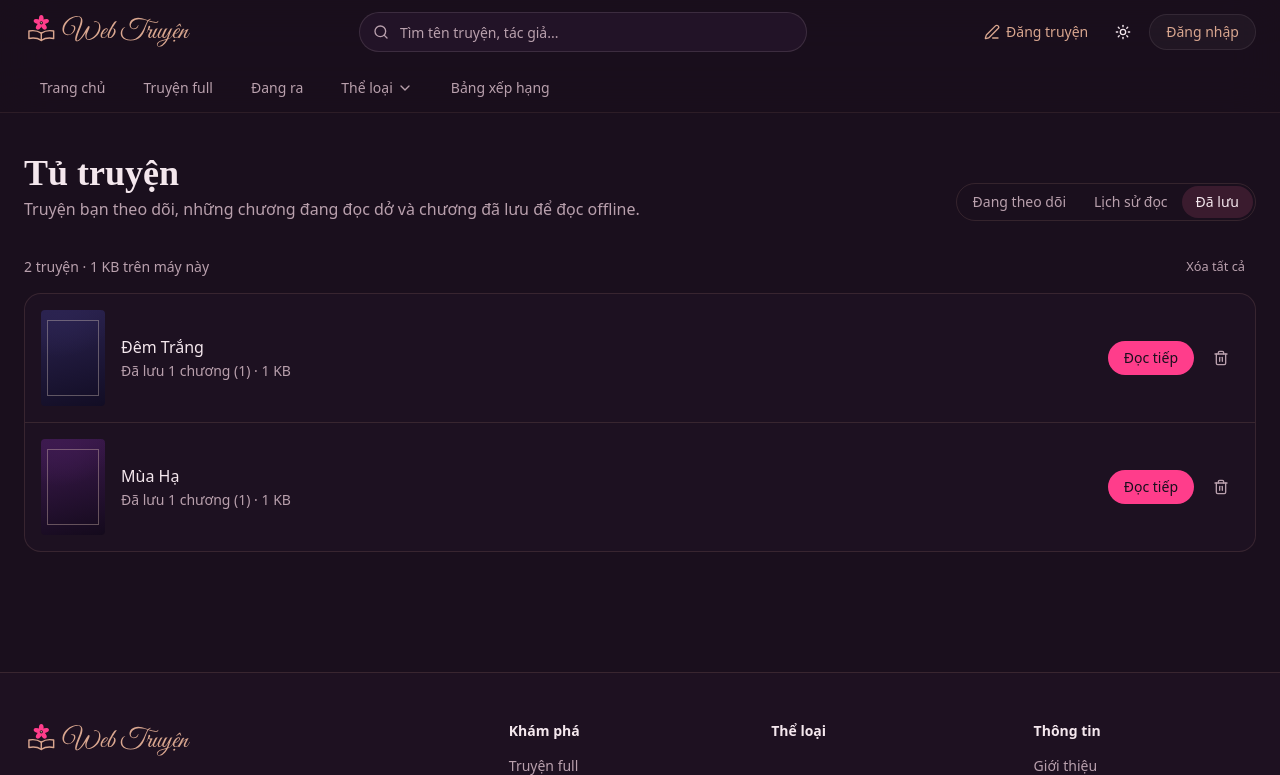
xóa một truyện; "Xóa tất cả" hỏi lại rồi xóa hết
Click the button named "Xóa Mùa Hạ khỏi máy" at point(1221, 487), box [1203,469,1239,505]
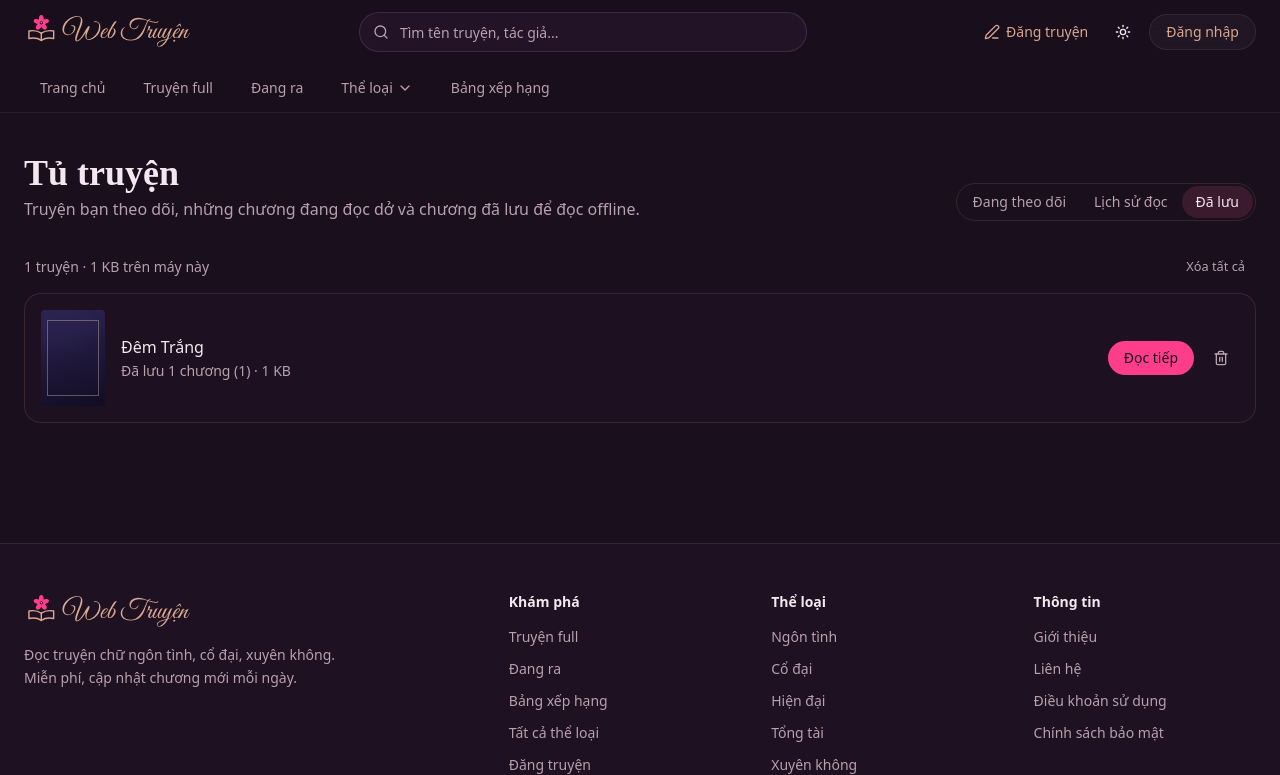
Now the link "Mùa Hạ" is gone
Click the button "Xóa tất cả" at point(1216, 267), box [1175,253,1256,281]
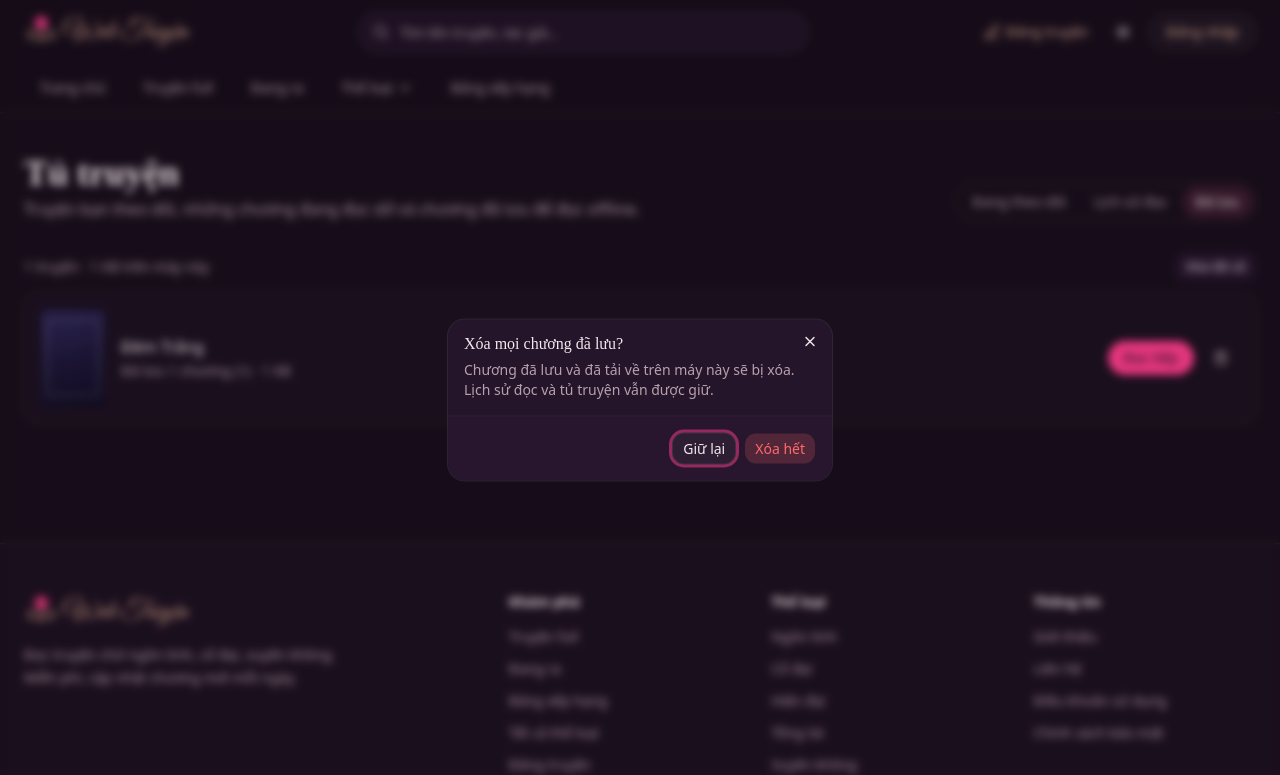
Click the button "Xóa hết" at point(780, 448), box [744,432,816,464]
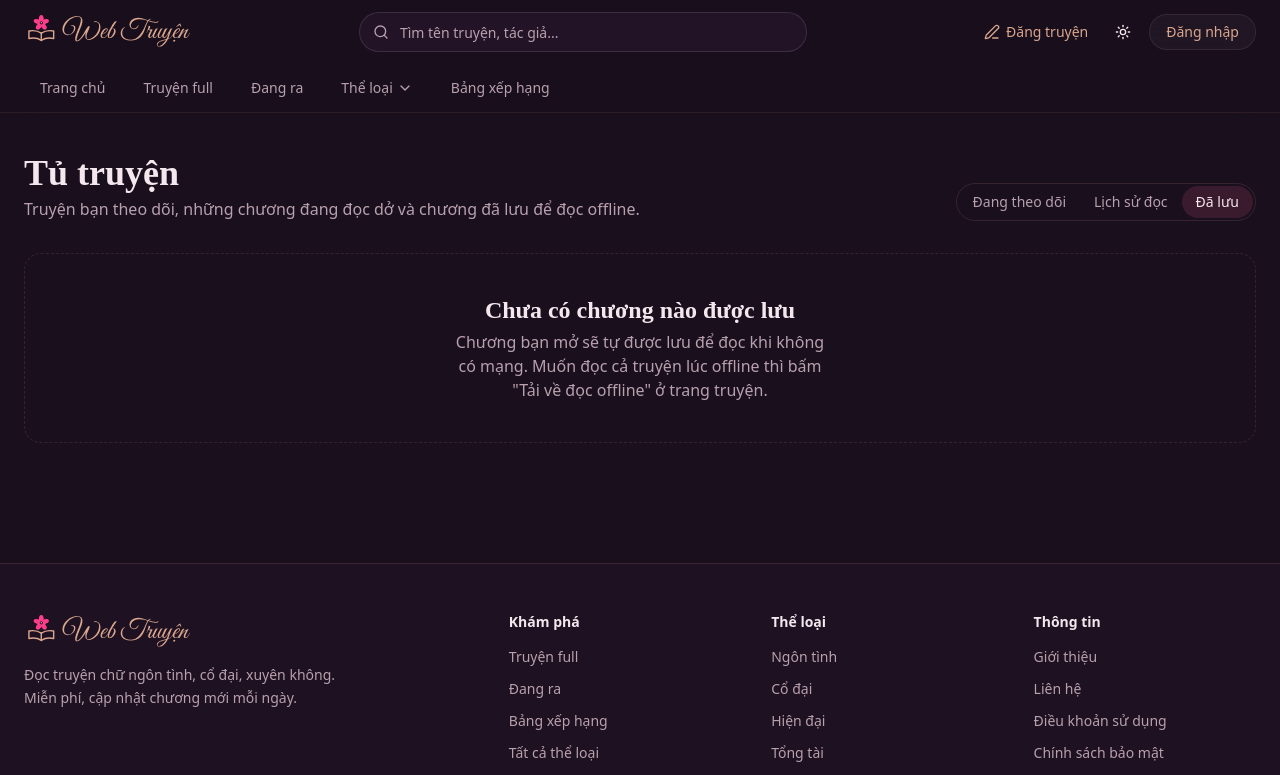
Now the text "Chưa có chương nào được lưu" is shown, box [485,297,795,323]
